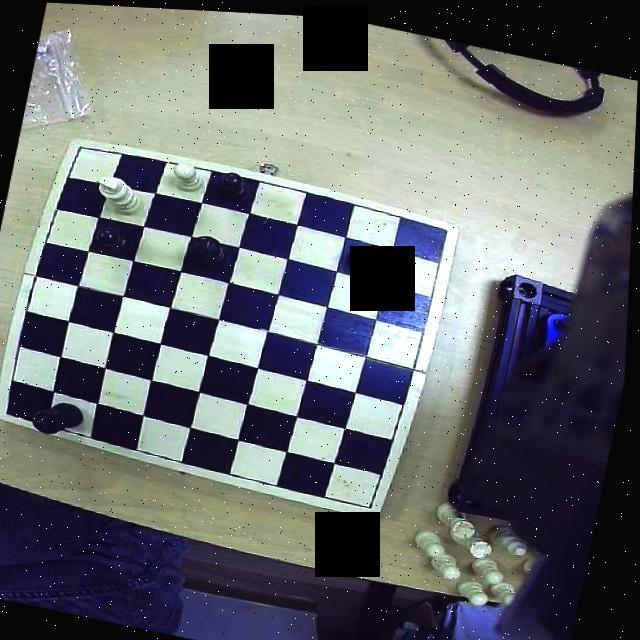chess-table-corners: (354, 477, 388, 512), (1, 392, 34, 426), (426, 214, 456, 249), (68, 136, 98, 164)
